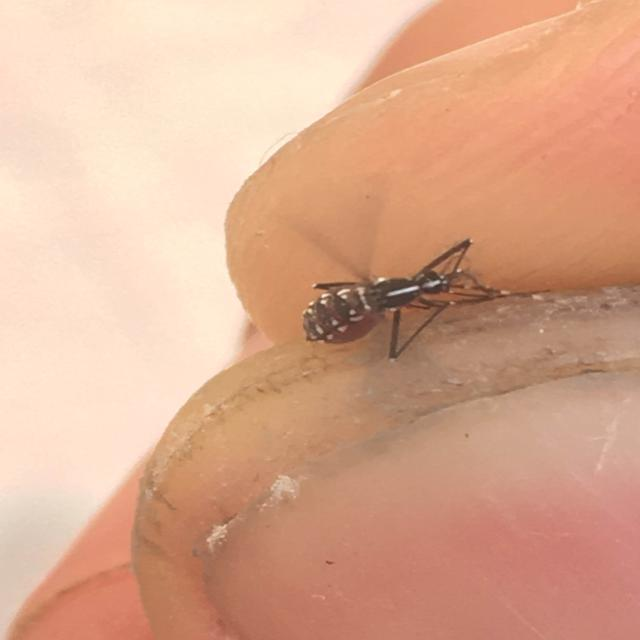albopictus: (304, 227, 560, 362)
